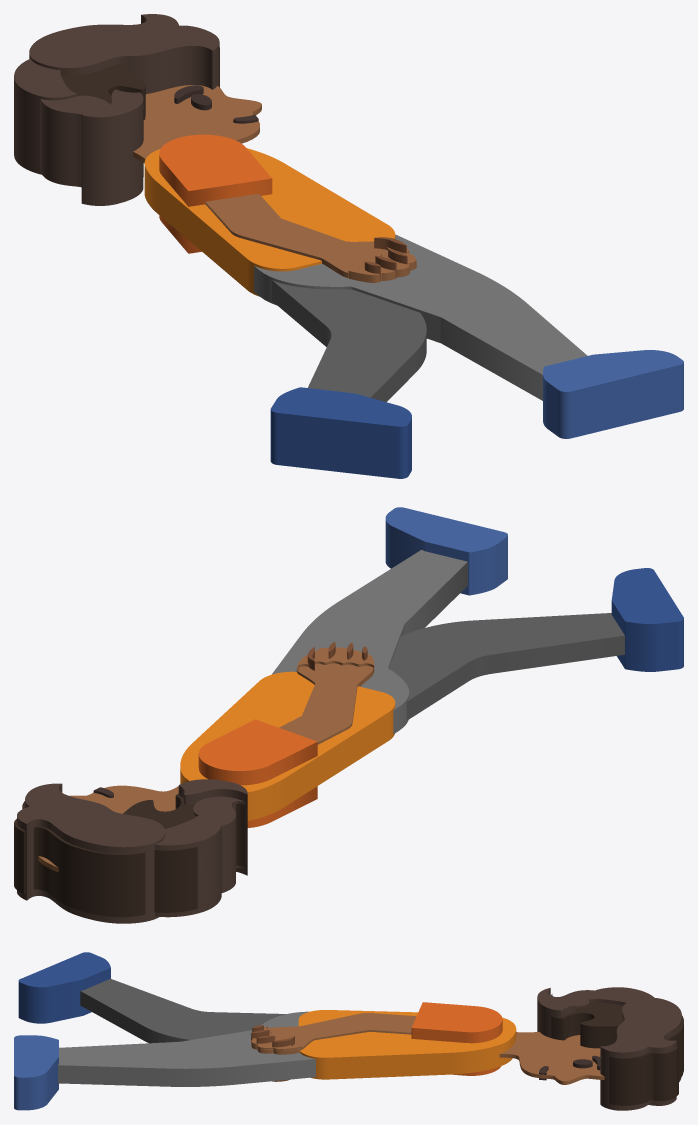
Rendered from emoji_u1f6b6_1f3fe_200d_27a1.glb.
3 renders of one model, top to bottom at view 1: azimuth 30°, elevation 25°; view 2: azimuth 150°, elevation 25°; view 3: azimuth 270°, elevation 25°, orthographic. The views are drawn at different scales.
Parts seen in each view (by area): view 1: emoji_u1f6b6_1f3fe_200d_27a1; view 2: emoji_u1f6b6_1f3fe_200d_27a1; view 3: emoji_u1f6b6_1f3fe_200d_27a1.
Part boxes in pixels (x1=…): emoji_u1f6b6_1f3fe_200d_27a1: x1=14, y1=14, x2=683, y2=478; emoji_u1f6b6_1f3fe_200d_27a1: x1=14, y1=507, x2=683, y2=923; emoji_u1f6b6_1f3fe_200d_27a1: x1=14, y1=952, x2=683, y2=1110.
Size of the model in its own units: 0.0146 by 0.0034 by 0.0334.
